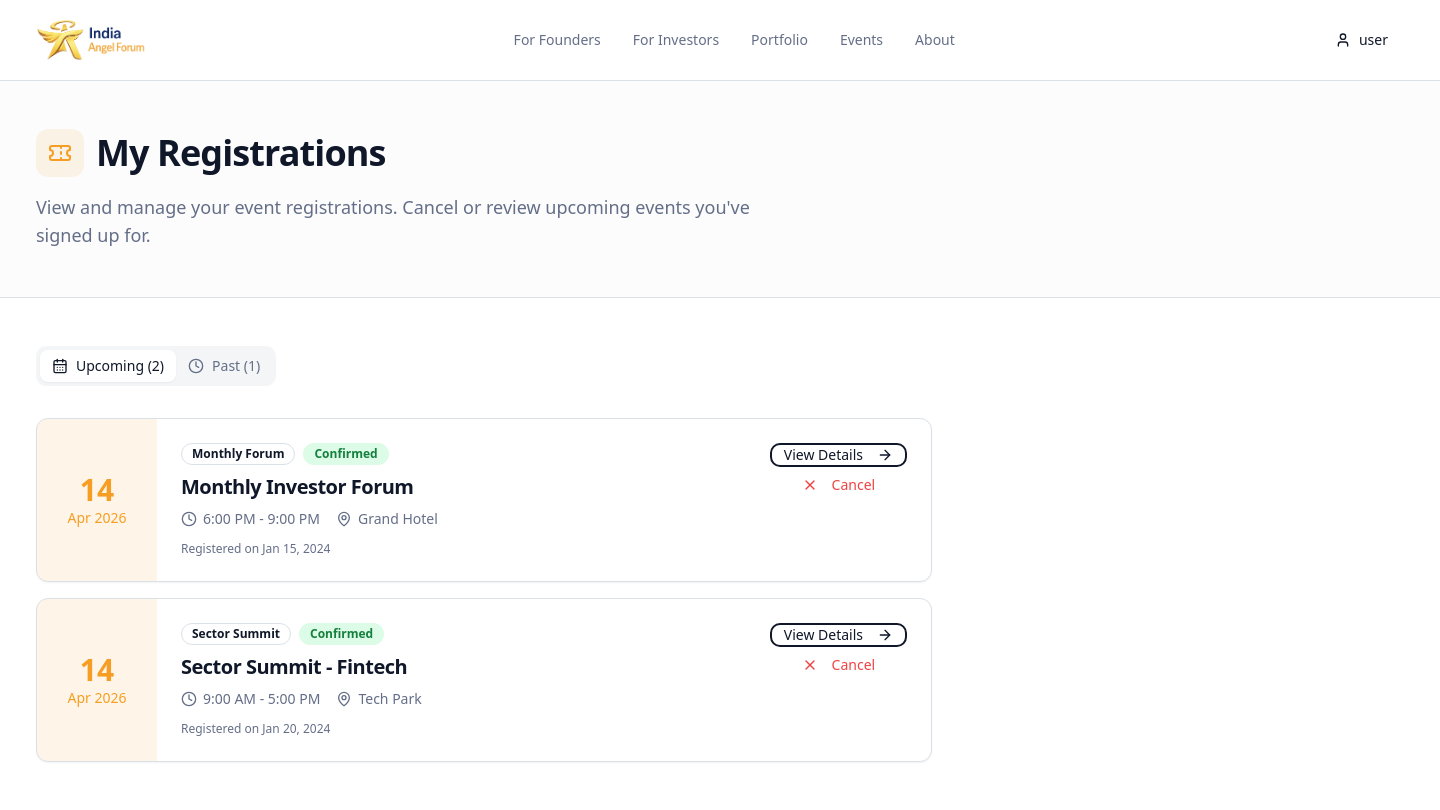
Test: MyRegistrations Page › Cancel Registration › should open confirmation dialog when clicking cancel
Check: the link "Monthly Investor Forum" is shown, box [181,473,414,500]
What coordinates should you click on to do the following:
click the button "Cancel" in the row of "Monthly Investor Forum"
I would click on:
 (838, 485)
Its box is [770,475,907,495].
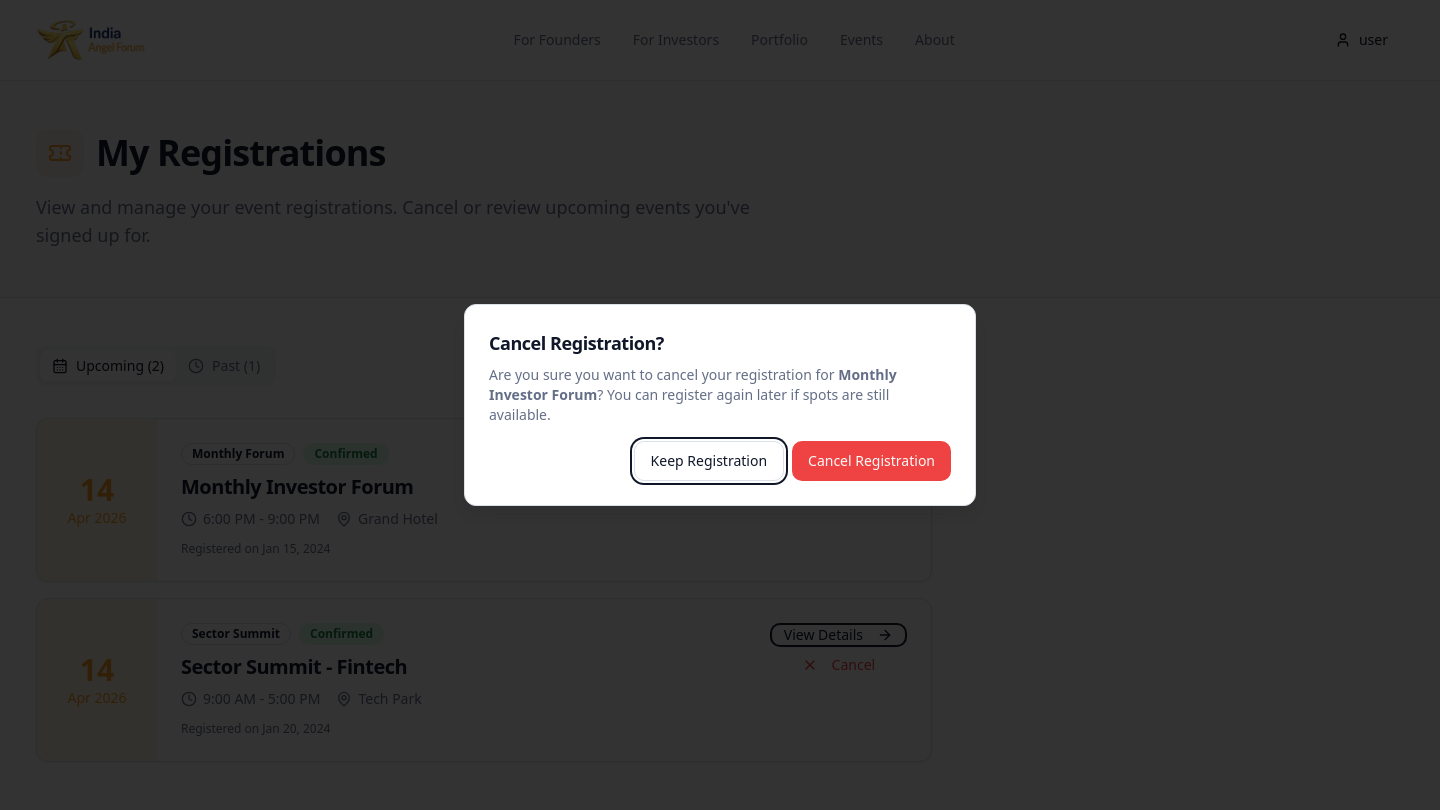
Check: the dialog is shown, box [464,304,976,506]
Check: the heading "Cancel Registration?" is shown, box [489,331,664,355]
